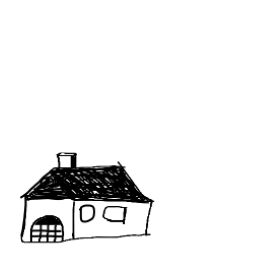bottom_placed_house: (3, 1, 260, 260)
chimney: (54, 145, 81, 174)
door: (27, 212, 66, 249)
open_window: (100, 202, 129, 227), (78, 201, 97, 224)
shaded_roof: (17, 162, 158, 207)
small_house: (3, 8, 260, 260)
wall: (70, 194, 157, 241)
